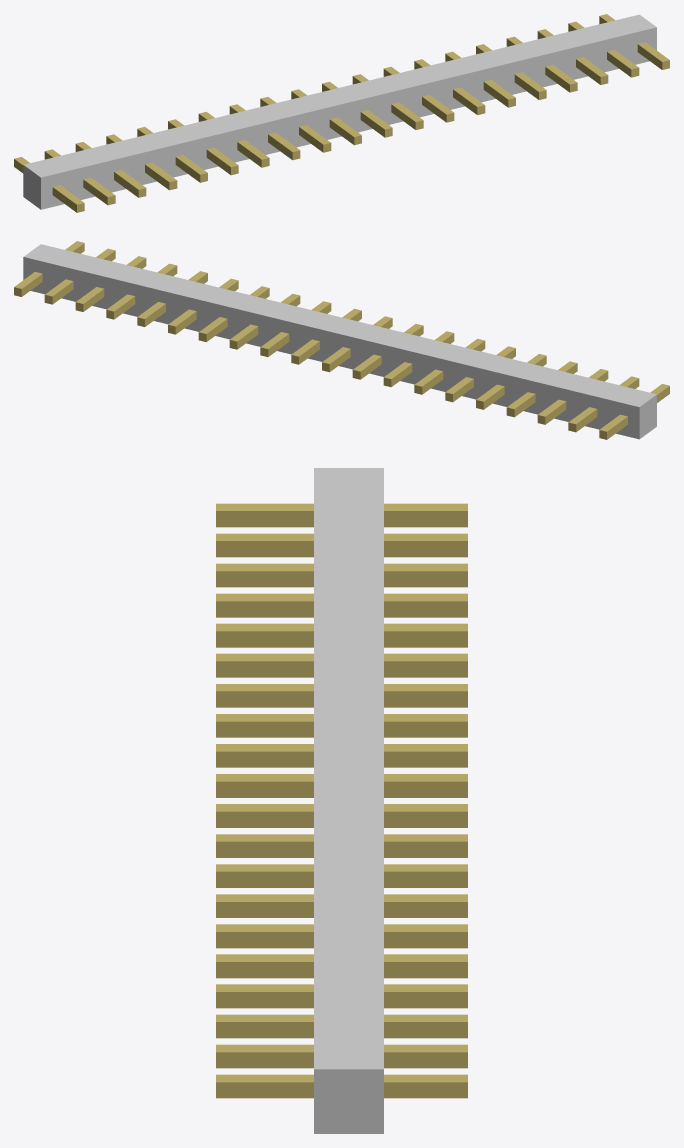
Rendered from pin_header_254_20pin.glb.
The picture shows the model from 3 angles, top to bottom: view 1: azimuth 30°, elevation 25°; view 2: azimuth 150°, elevation 25°; view 3: azimuth 270°, elevation 25°; orthographic projection. The views are drawn at different scales.
Parts seen in each view (by area): view 1: housing, pins; view 2: housing, pins; view 3: pins, housing.
Part boxes in pixels (left/top/right/bottom): housing: left=23, top=14, right=656, bottom=209; pins: left=14, top=14, right=669, bottom=212; housing: left=23, top=244, right=656, bottom=439; pins: left=14, top=241, right=669, bottom=439; pins: left=216, top=503, right=467, bottom=1098; housing: left=314, top=468, right=383, bottom=1133.
Size of the model in its own units: 50.8 by 2.54 by 9.
